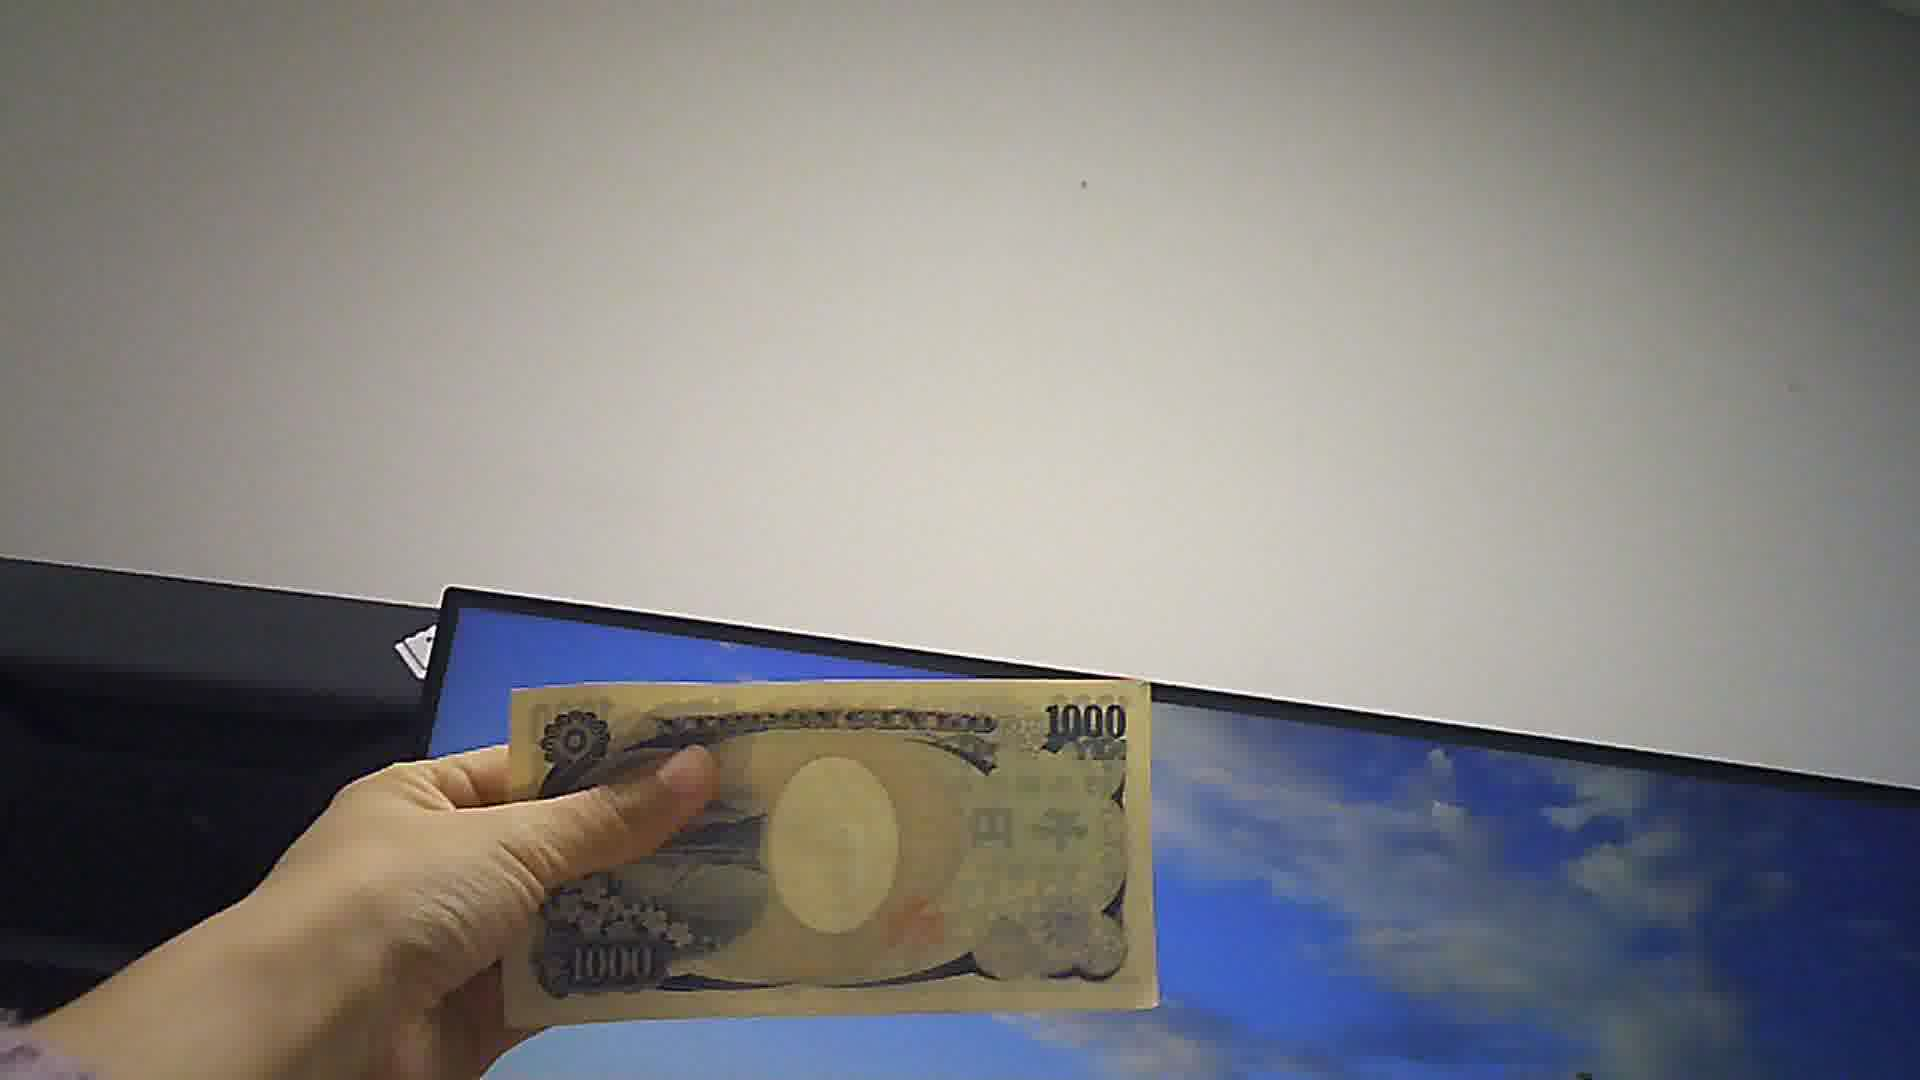1,000 Yen: (491, 666, 1159, 1021)
